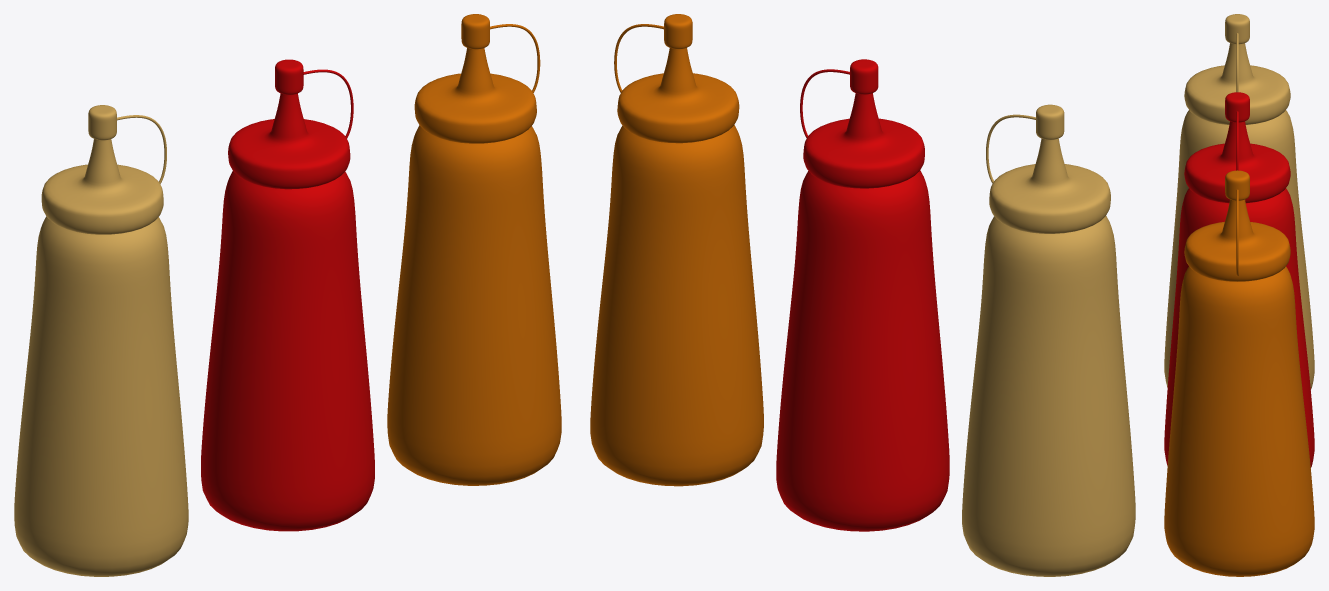
File: mostaza.obj
3 views of the same model, side by side, from view 1: azimuth 30°, elevation 25°; view 2: azimuth 150°, elevation 25°; view 3: azimuth 270°, elevation 25° (orthographic). The views are drawn at different scales.
Parts seen in each view (by area): view 1: catsup, mostaza, mayonesa; view 2: catsup, mostaza, mayonesa; view 3: mostaza, mayonesa, catsup.
Boxes of the visible parts, x1,y1,x2,y2 form: catsup: [201, 59, 374, 531]; mostaza: [387, 14, 561, 485]; mayonesa: [14, 105, 188, 576]; catsup: [776, 59, 949, 531]; mostaza: [590, 14, 763, 486]; mayonesa: [962, 104, 1135, 576]; mostaza: [1164, 170, 1314, 576]; mayonesa: [1164, 14, 1314, 389]; catsup: [1164, 92, 1314, 467].
Bounding box in the file's own units: 8.44 × 6.77 × 2.44.
